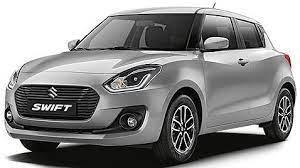Hatchback: (1, 7, 297, 166)
